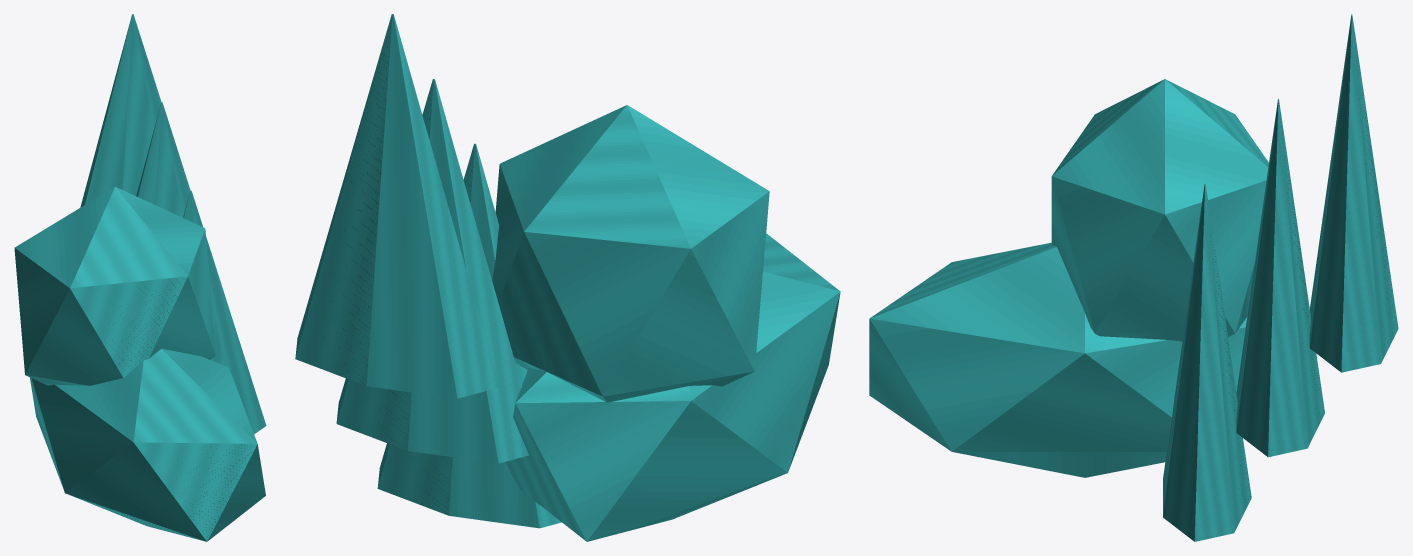
File: firstborn.glb
3 views of the same model, side by side, from view 1: azimuth 30°, elevation 25°; view 2: azimuth 150°, elevation 25°; view 3: azimuth 270°, elevation 25° (orthographic). The views are drawn at different scales.
Parts seen in each view (by area): view 1: gear_firstborn; view 2: gear_firstborn; view 3: gear_firstborn.
Part boxes in pixels (bbox=[...]): gear_firstborn: bbox=[14, 14, 266, 541]; gear_firstborn: bbox=[295, 14, 840, 541]; gear_firstborn: bbox=[869, 14, 1398, 541].
Size of the model in its own units: 0.2764 by 0.43 by 0.3966.
Materials: 1 (1 with a texture image).
